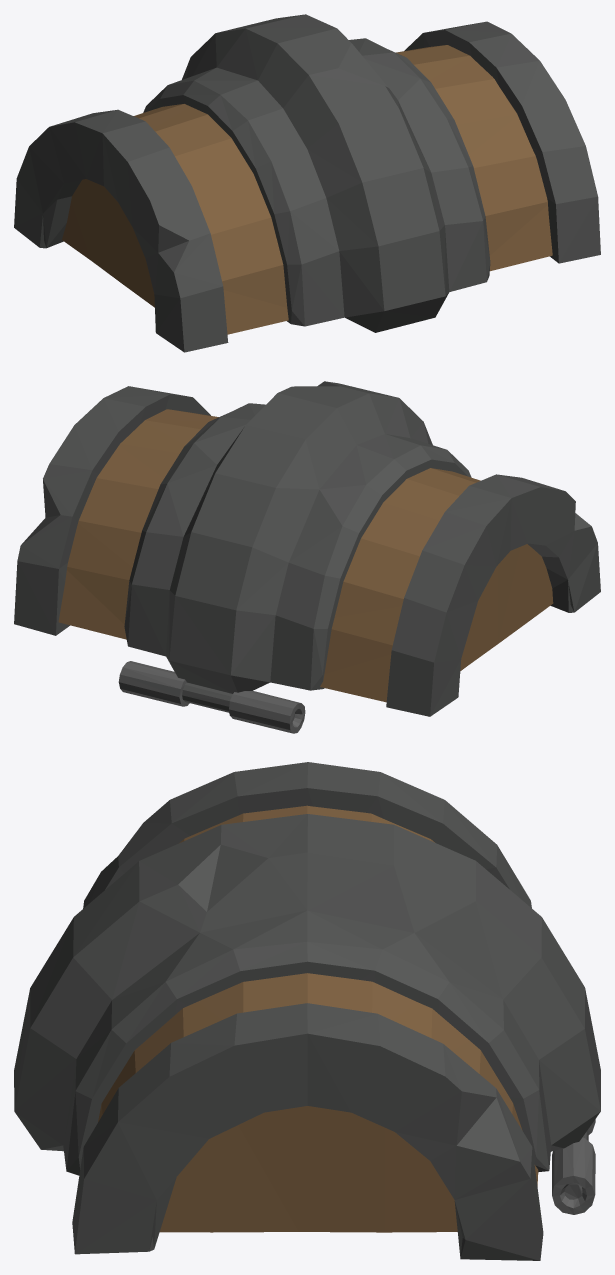
File: Chest_002.fbx
3 views of the same model, one above another, from view 1: azimuth 30°, elevation 25°; view 2: azimuth 150°, elevation 25°; view 3: azimuth 270°, elevation 25° (orthographic). The views are drawn at different scales.
Visible parts, largest first — view 1: Chest_002; view 2: Chest_002; view 3: Chest_002.
Boxes of the visible parts, <box> form: Chest_002: <box>14,14,600,352</box>; Chest_002: <box>14,381,600,733</box>; Chest_002: <box>14,762,600,1260</box>.
Bounding box in the file's own units: 0.8214 × 0.4504 × 0.7313.
